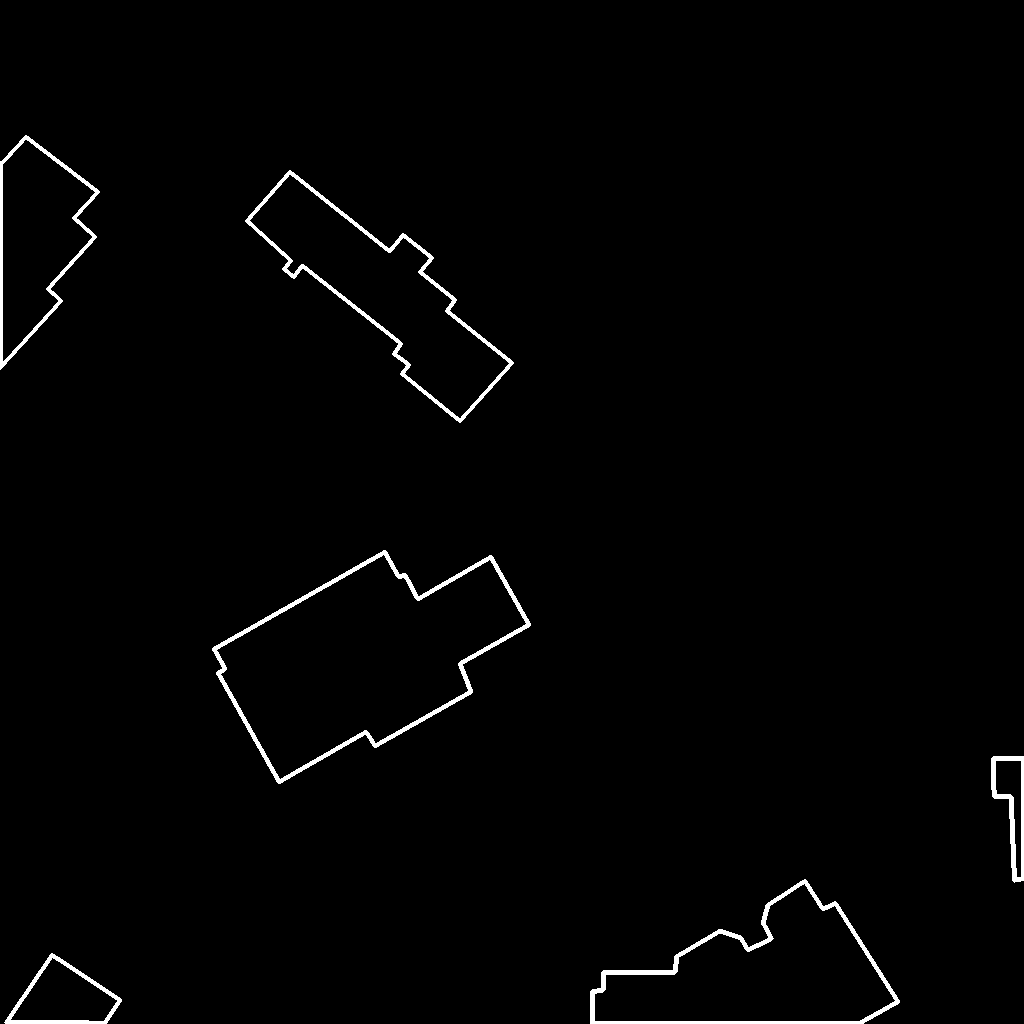building: (214, 552, 530, 783), (247, 172, 513, 422), (592, 881, 899, 1024), (0, 137, 99, 369), (6, 955, 121, 1024), (993, 758, 1024, 881)
